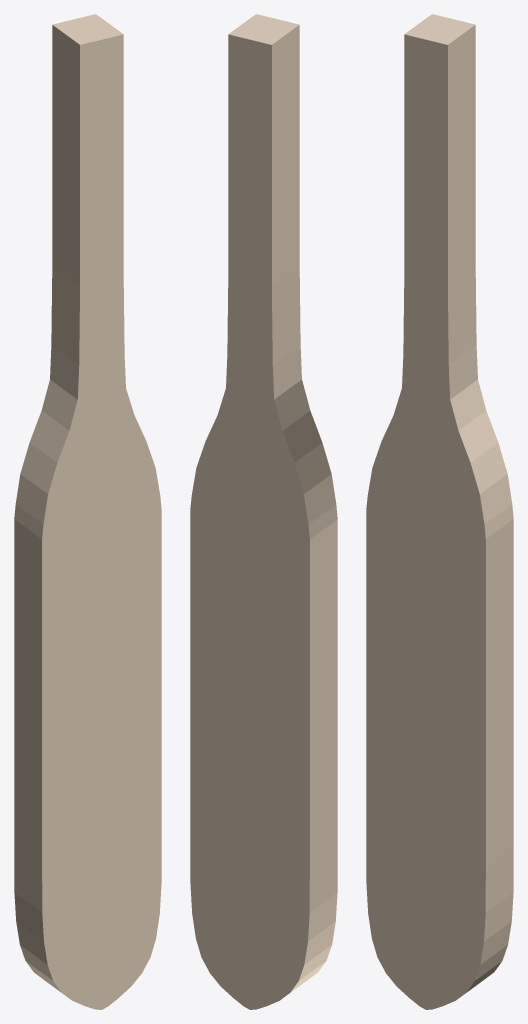
Rendered from cricket_bat.glb.
The picture shows the model from 3 angles, left to right: view 1: azimuth 30°, elevation 25°; view 2: azimuth 150°, elevation 25°; view 3: azimuth 330°, elevation 25°; orthographic projection.
Parts seen in each view (by area): view 1: Bat_Front, Bat_Edge; view 2: Bat_Back, Bat_Edge; view 3: Bat_Front, Bat_Edge.
Part boxes in pixels (x1,y1,x2,y2): Bat_Front: (42, 34, 161, 1009); Bat_Edge: (14, 14, 123, 997); Bat_Back: (190, 34, 309, 1009); Bat_Edge: (228, 14, 337, 997); Bat_Front: (366, 34, 485, 1009); Bat_Edge: (404, 14, 513, 997).
Size of the model in its own units: 0.129 by 1 by 0.052.
